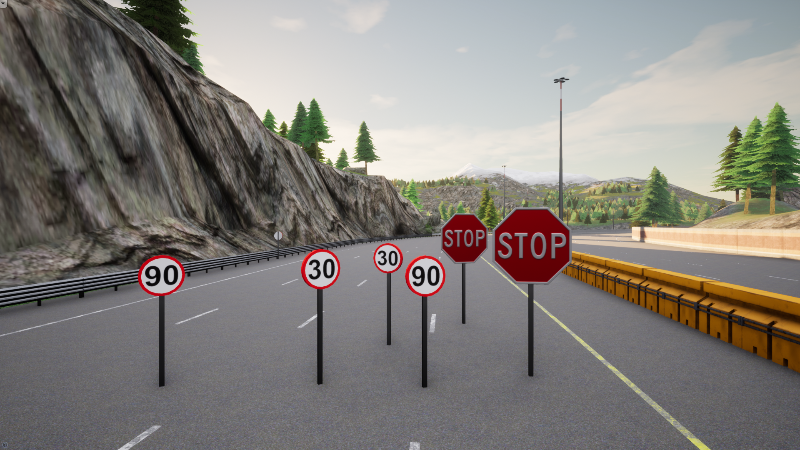fast: (137, 255, 185, 296), (405, 254, 446, 298)
slow: (301, 248, 341, 289), (372, 243, 403, 273)
stop: (492, 206, 573, 285), (441, 213, 489, 264)
